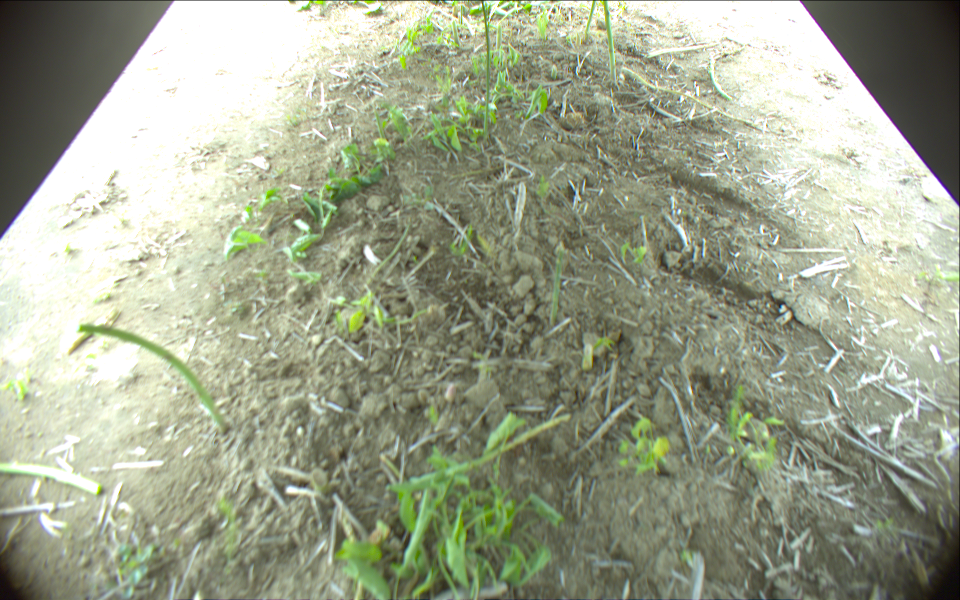aspa: (79, 321, 230, 433), (381, 413, 570, 498), (619, 65, 763, 130), (1, 459, 104, 497), (478, 1, 491, 139), (648, 37, 721, 58), (600, 1, 618, 84), (705, 53, 735, 102), (547, 245, 565, 322), (584, 1, 596, 41), (493, 24, 502, 56), (450, 22, 462, 45), (458, 1, 465, 27)
